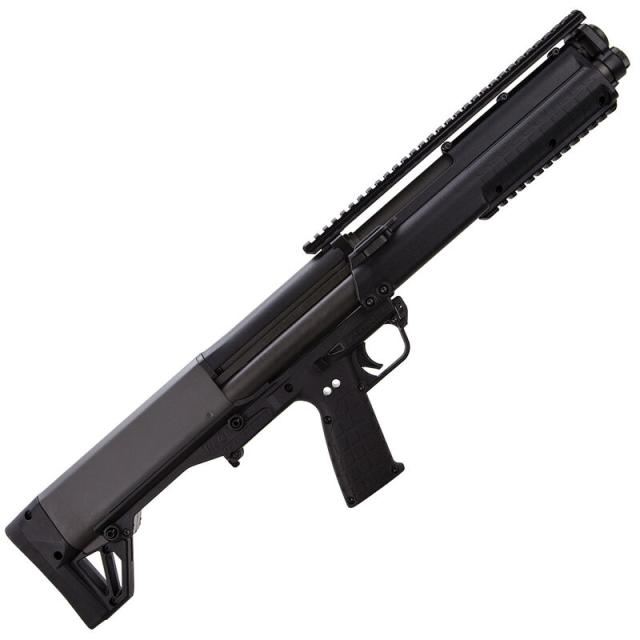ShotGun: (3, 11, 632, 631)
